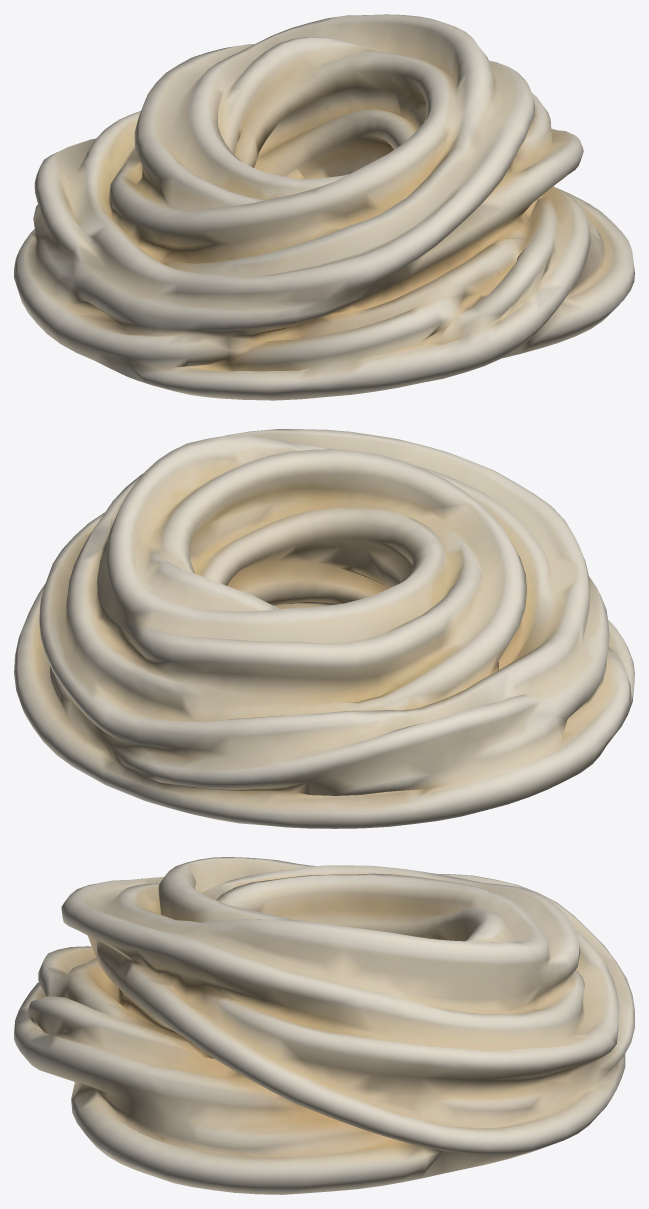
Rendered from optimized_glb.glb.
3 renders of one model, top to bottom at view 1: azimuth 30°, elevation 25°; view 2: azimuth 150°, elevation 25°; view 3: azimuth 270°, elevation 25°, orthographic. The views are drawn at different scales.
Visible parts, largest first — view 1: Udon Noodles; view 2: Udon Noodles; view 3: Udon Noodles.
Boxes of the visible parts, x1,y1,x2,y2 form: Udon Noodles: (14, 14, 634, 400); Udon Noodles: (14, 429, 634, 828); Udon Noodles: (14, 857, 634, 1194).
Bounding box in the file's own units: 0.9941 × 0.3926 × 0.998.
1 material, 1 textured.
